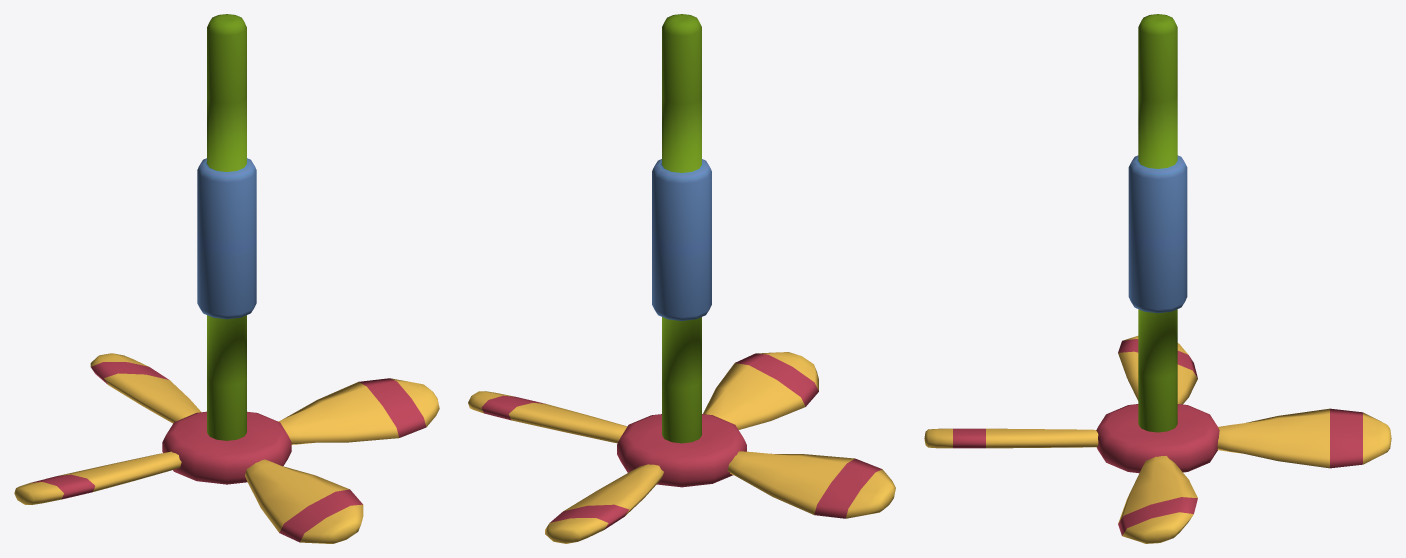
Rendered from Fan.fbx.
3 renders of one model, left to right at view 1: azimuth 30°, elevation 25°; view 2: azimuth 150°, elevation 25°; view 3: azimuth 270°, elevation 25°, orthographic. The views are drawn at different scales.
Visible parts, largest first — view 1: Fan (×2); view 2: Fan (×2); view 3: Fan (×2).
Boxes of the visible parts, x1=… form: Fan (×2): x1=14, y1=14, x2=439, y2=543; Fan (×2): x1=468, y1=14, x2=895, y2=543; Fan (×2): x1=924, y1=14, x2=1391, y2=543.
Size of the model in its own units: 595 by 610 by 595.
Materials: 1 (1 with a texture image).
